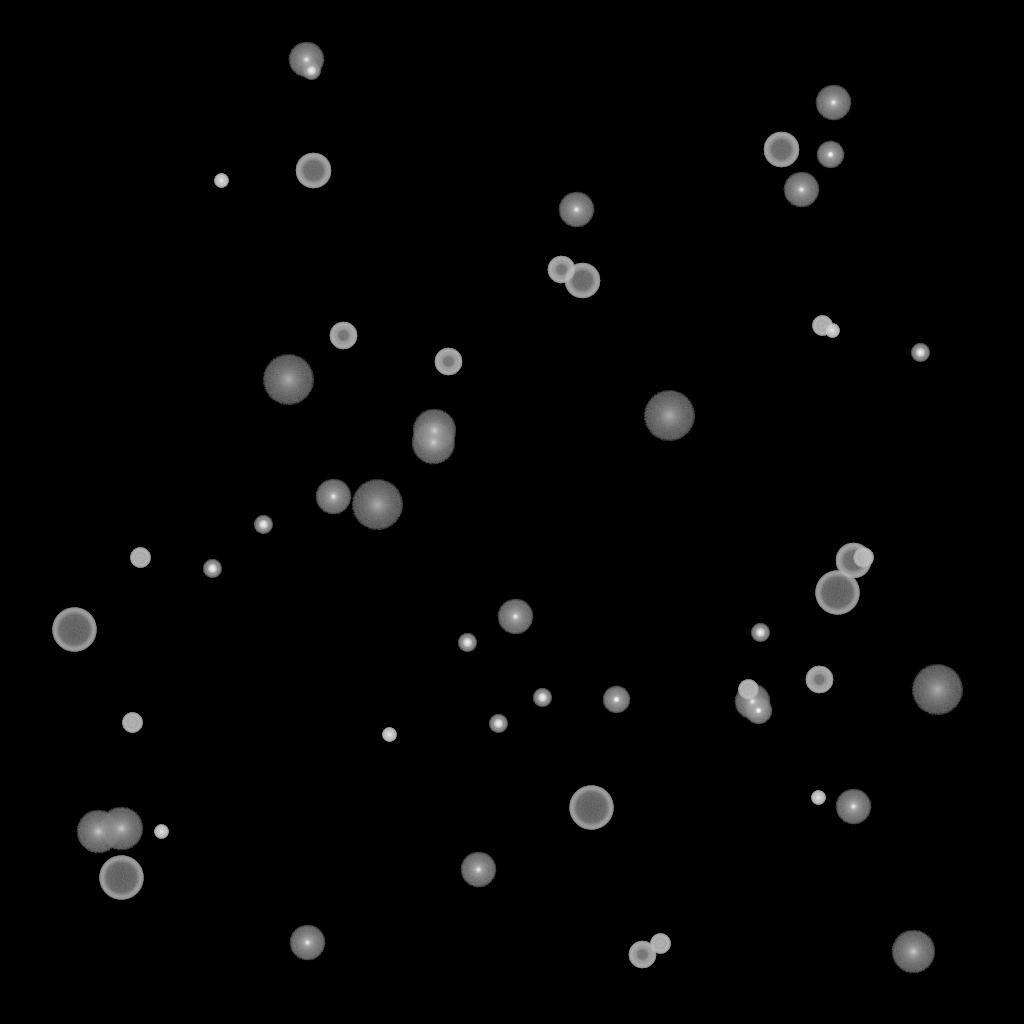depth:-10: (744, 697, 772, 725), (816, 141, 844, 169), (602, 686, 630, 714)
depth:-20: (911, 344, 929, 362), (254, 516, 272, 534), (533, 689, 551, 707), (458, 634, 476, 652), (751, 624, 769, 642), (203, 560, 221, 578), (302, 62, 320, 80), (489, 715, 507, 733)
depth:-30: (811, 791, 825, 805), (154, 825, 168, 839), (214, 174, 228, 188), (382, 728, 396, 742), (825, 324, 839, 338)
depth:-40: (130, 548, 150, 568), (650, 934, 670, 954), (122, 713, 142, 733), (738, 680, 758, 700), (853, 548, 873, 568), (812, 316, 832, 336)
depth:-50: (805, 666, 833, 694), (434, 348, 462, 376), (628, 941, 656, 969), (329, 322, 357, 350), (547, 256, 575, 284)
depth:-60: (295, 153, 331, 189), (835, 543, 871, 579), (763, 132, 799, 168), (564, 263, 600, 299)
depth:-70: (815, 571, 859, 615), (569, 786, 613, 830), (99, 856, 143, 900), (52, 608, 96, 652)
depth:0: (815, 85, 851, 121), (783, 172, 819, 208), (835, 789, 871, 825), (289, 925, 325, 961), (315, 479, 351, 515), (497, 599, 533, 635), (288, 42, 324, 78), (734, 684, 770, 720), (460, 852, 496, 888), (558, 192, 594, 228)
depth:10: (891, 930, 935, 974), (99, 807, 143, 851), (412, 409, 456, 453), (76, 810, 120, 854), (411, 421, 455, 465)
depth:20: (911, 665, 963, 715), (351, 480, 403, 530), (262, 355, 314, 405), (643, 391, 695, 441)
